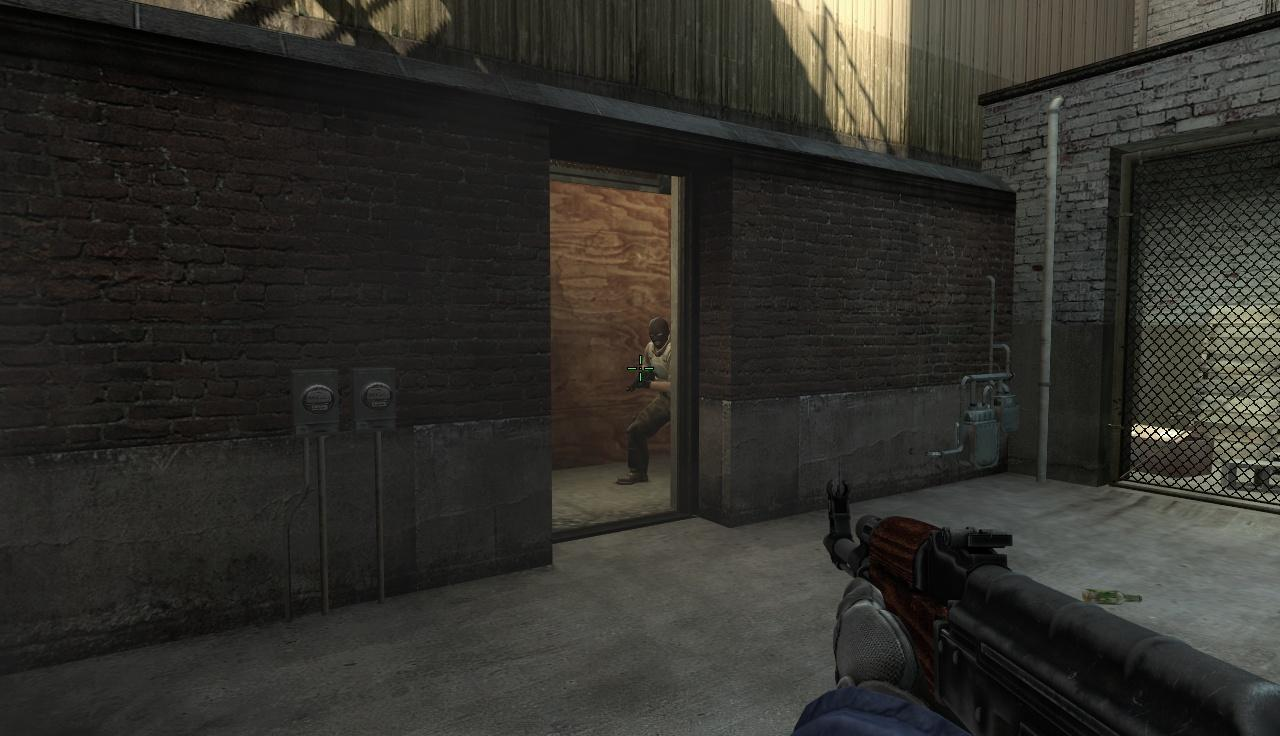rifle: (816, 478, 1280, 736)
tt: (639, 317, 673, 435)
tthead: (648, 317, 669, 348)
